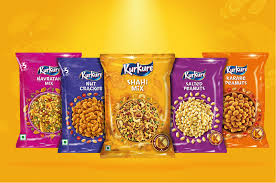kurkure: (73, 69, 113, 82), (122, 64, 158, 75), (39, 65, 62, 80), (184, 69, 207, 83), (224, 67, 251, 77)
plastic: (91, 55, 188, 151), (16, 53, 101, 151), (198, 54, 268, 150), (162, 54, 220, 150)
wrapper: (112, 56, 180, 158), (210, 52, 272, 148), (170, 61, 226, 151), (59, 58, 112, 147), (18, 56, 68, 130)
